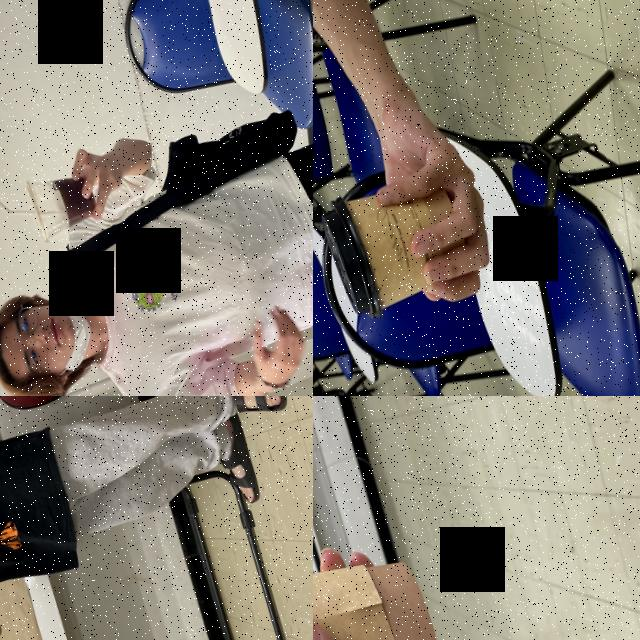cup: (314, 162, 478, 324), (313, 524, 460, 640), (20, 161, 104, 244)
